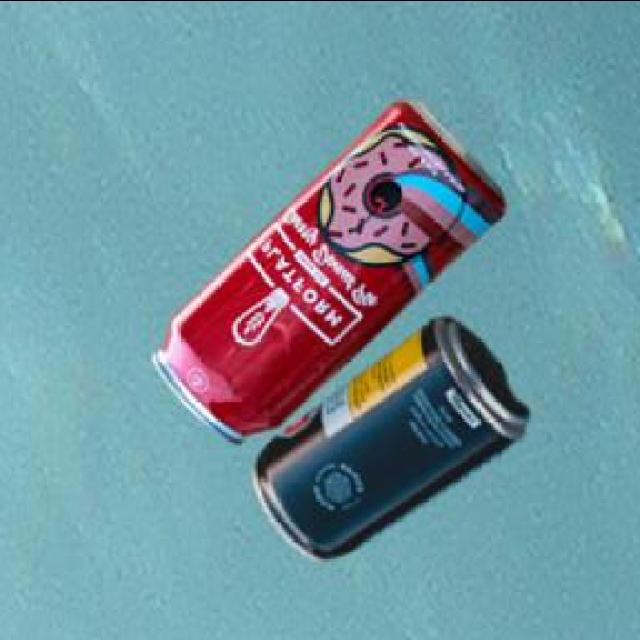logam: (150, 97, 503, 441), (250, 312, 526, 557)
